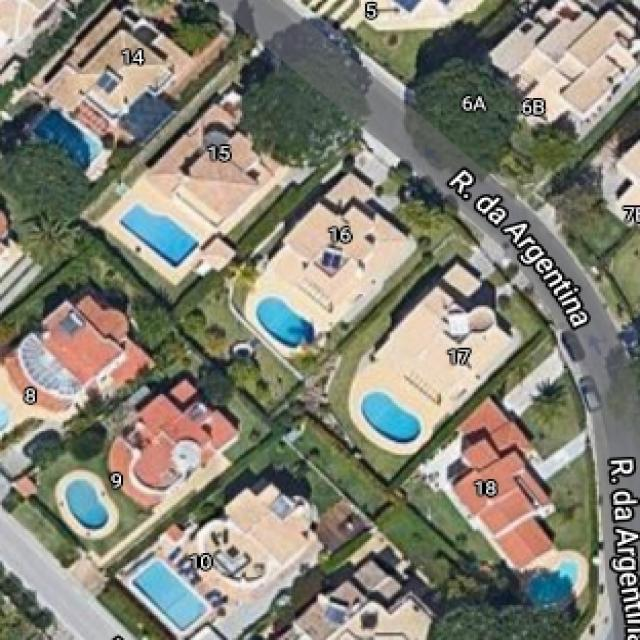swimming pool: (131, 558, 207, 630), (119, 202, 197, 264), (31, 108, 92, 168), (254, 294, 314, 348), (359, 390, 420, 442), (64, 477, 108, 527)
